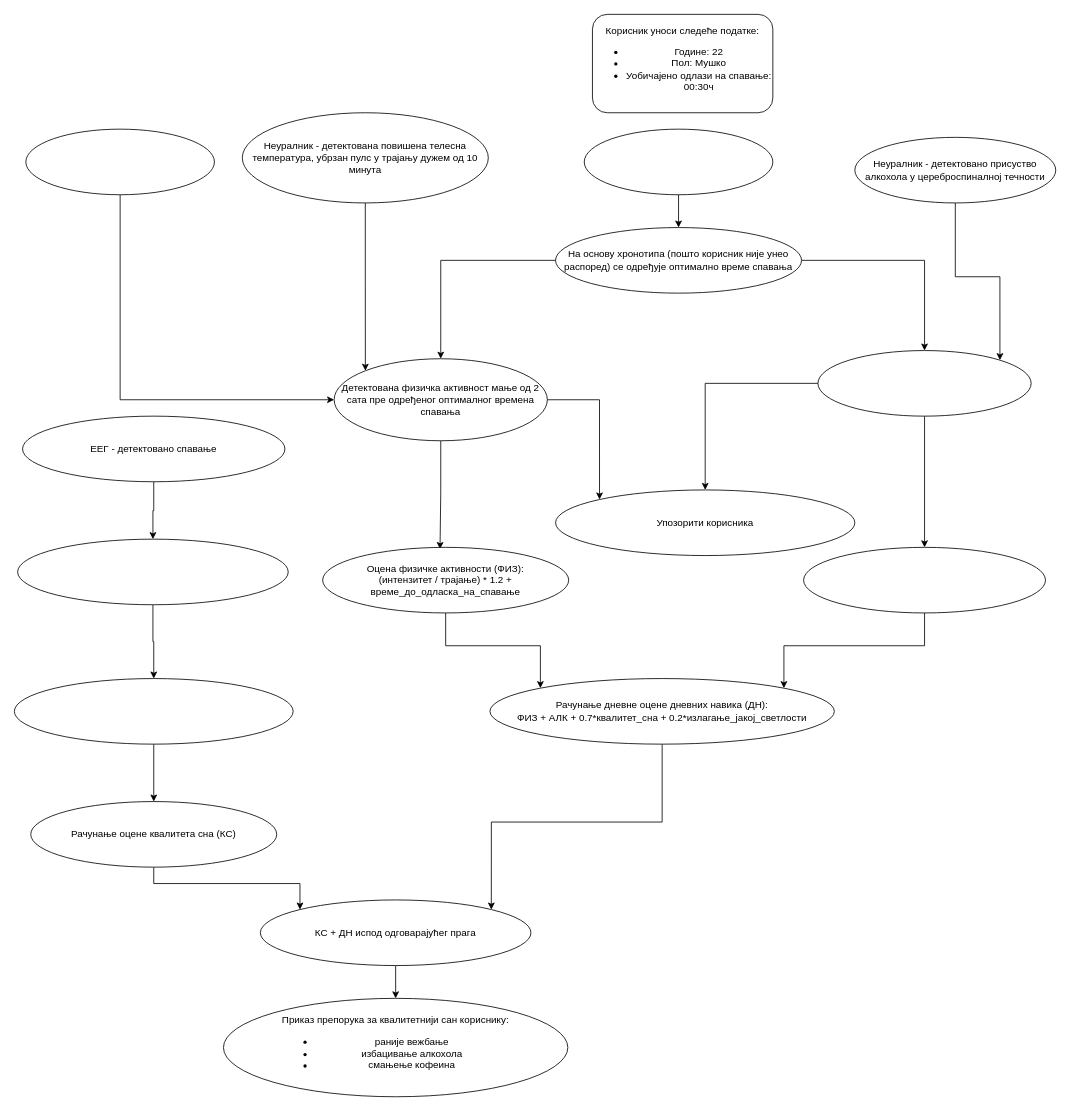
Image size: 1070x1111. Some labels were removed from this diagram. The centre of each missing label's shape, as x and y in pixels:
Детектован алкохол и мање од 4 сата пре одласка на спавање: pixel 924 383
Детектовање фаза сна: pixel 152 571
ЕЕГ - детеквоана будност: pixel 119 161
ЕЕГ - детектована будност Неуралник - детектован повишен тонус мишића: pixel 153 711
На основу унетих особина одређује се хронотип особе: pixel 678 161
Оцена конзумирања алкохола (АЛК): -количина * (време_до_одласка_на_спавање / 4): pixel 924 580
